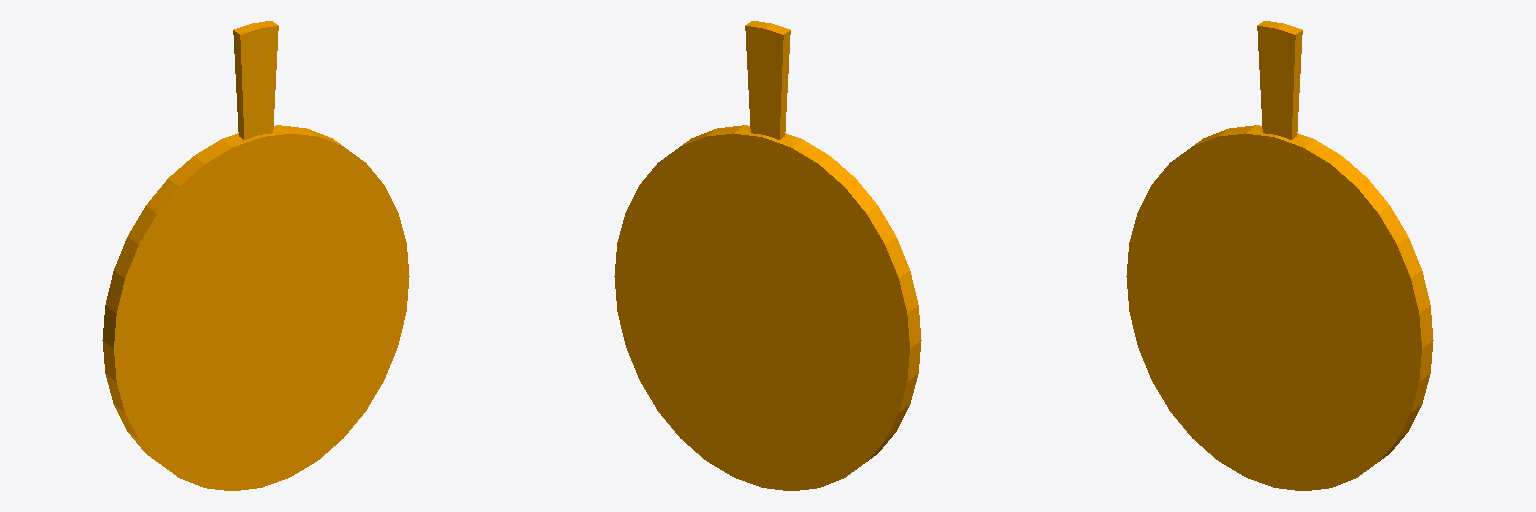
The robot description file, URDF, robot "racket":
<?xml version="1.0" ?>
<robot name="racket">
    <link name="baselink">
        <contact>
            <restitution value="0.95" />
        </contact>
        <inertial>
            <origin rpy="0 0 0" xyz="0 0 0"/>
            <mass value="0.2"/>
            <inertia ixx="1" ixy="0" ixz="0" iyy="1" iyz="0" izz="1"/>
        </inertial>
        <visual>
            <origin rpy="0 0 0" xyz="0 0 0"/>
            <geometry>
                <mesh filename="meshes/racket.obj" scale="1 1 1"/>
            </geometry>
            <material name="orange">
                <color rgba="1.0 0.66 0.0 1"/>
                <specular rgb="1 1 1"/>
            </material>
        </visual>
        <collision>
            <origin rpy="0 0 0" xyz="0 0 0"/>
            <geometry>
                <mesh filename="meshes/racket.obj" scale="1 1 1"/>
            </geometry>
        </collision>
    </link>
</robot>

--- Render facts (derived) ---
The picture shows the robot from 3 angles, left to right: view 1: azimuth 30°, elevation 25°; view 2: azimuth 150°, elevation 25°; view 3: azimuth 330°, elevation 25°; orthographic projection.
Robot: racket — 1 links, 0 joints (none); root link baselink; default pose: all joints at 0.
Links seen in each view (by area): view 1: baselink; view 2: baselink; view 3: baselink.
Link boxes in pixels (x1=…): baselink: x1=102, y1=21, x2=409, y2=490; baselink: x1=614, y1=21, x2=921, y2=490; baselink: x1=1126, y1=21, x2=1433, y2=490.
Size in the robot's own frame: 0.15 by 0.01 by 0.2218 metres.
1 mesh visuals loaded from 1 distinct referenced files (1 OBJ).